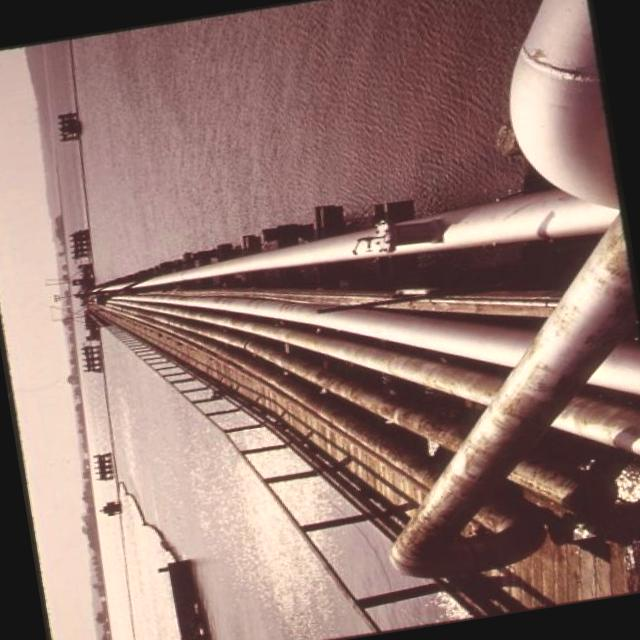gas: (87, 84, 640, 615), (102, 189, 617, 288), (174, 295, 534, 366), (239, 320, 502, 404)
